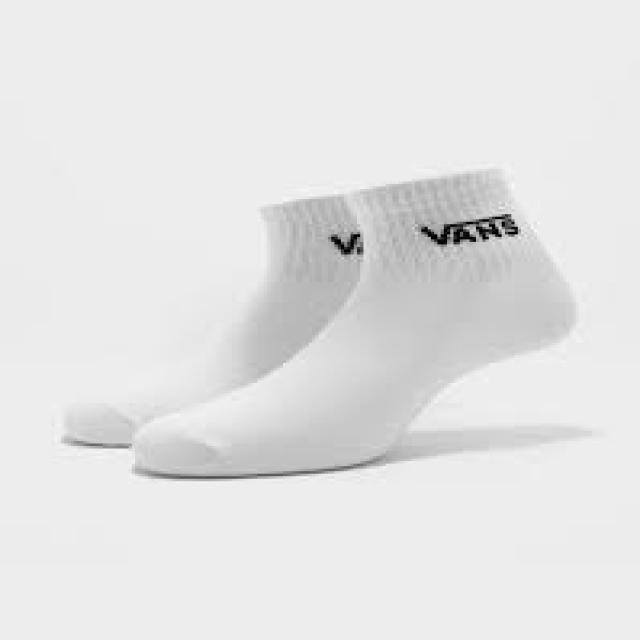sock: (128, 164, 576, 476), (58, 189, 363, 446)
